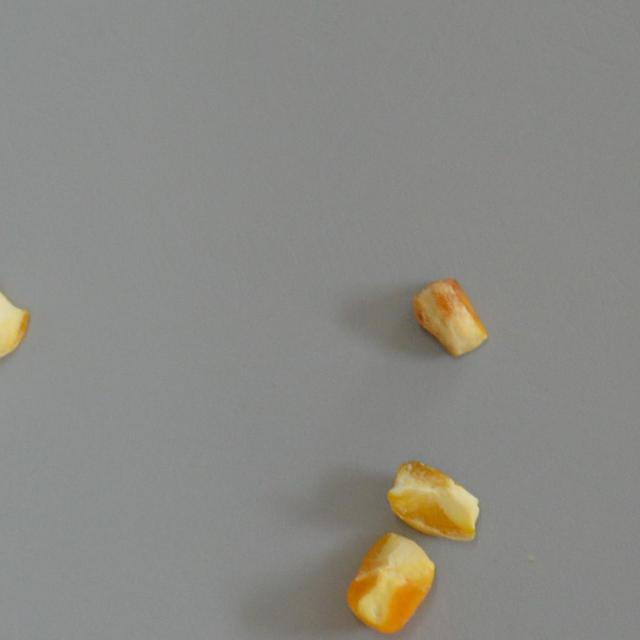dañado: (377, 441, 490, 550), (334, 531, 447, 640), (392, 260, 506, 368), (0, 280, 34, 388)
